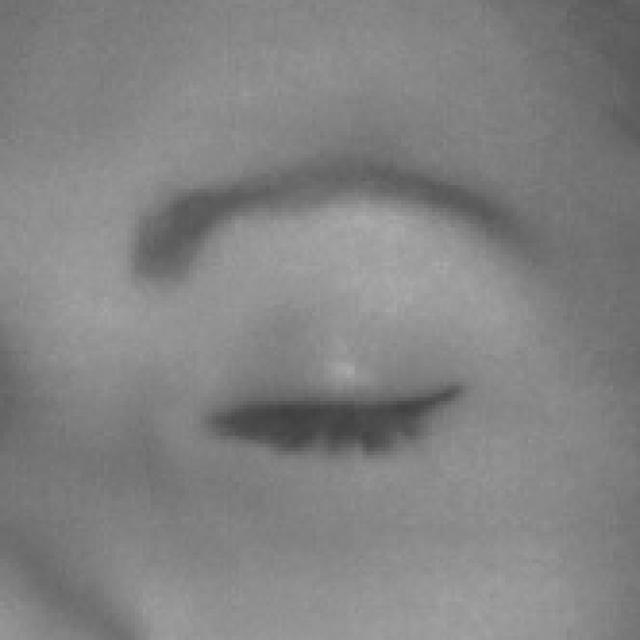Eyeclosed: (208, 313, 464, 544)
